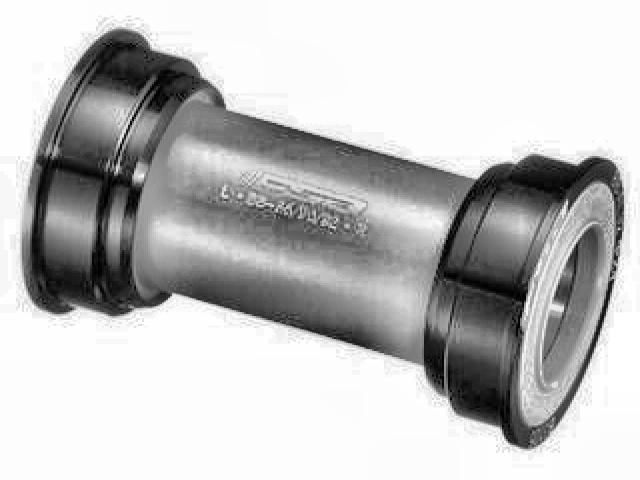bottom_bracket: (17, 23, 627, 453)
